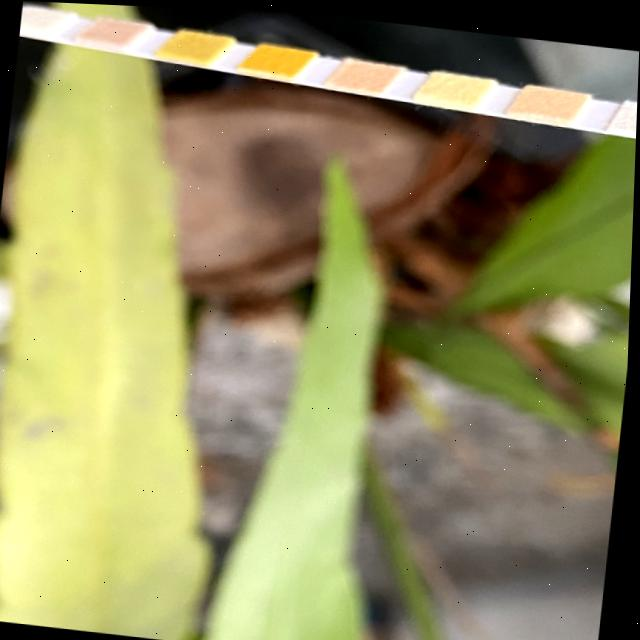Bilirubin: (22, 5, 49, 36)
Blood: (255, 40, 293, 72)
Ketone: (96, 13, 128, 44)
Nitrite: (622, 93, 638, 130)
Protein: (433, 66, 476, 105)
SpGravity: (178, 27, 207, 60)
Urobilinogen: (524, 78, 573, 118)
pH: (343, 56, 384, 90)
